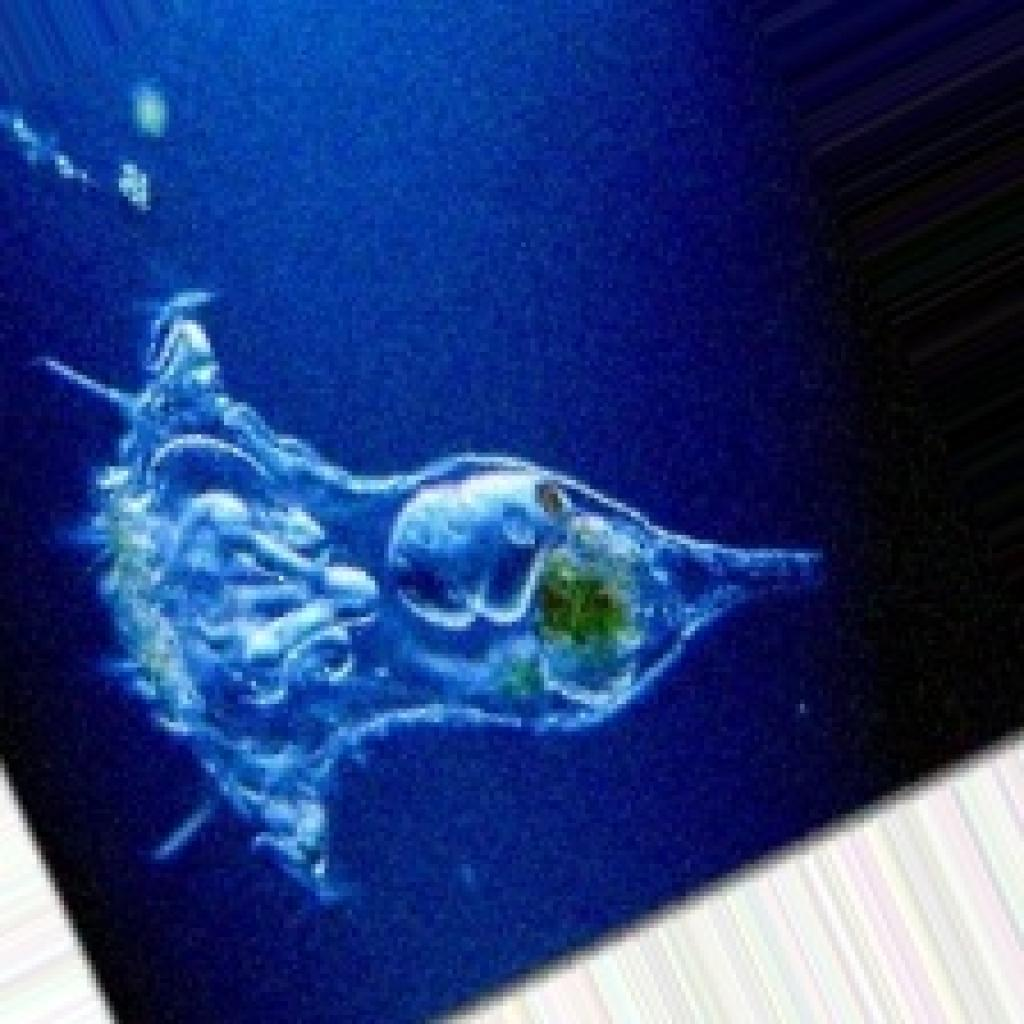Rotifer: (28, 279, 828, 900)
